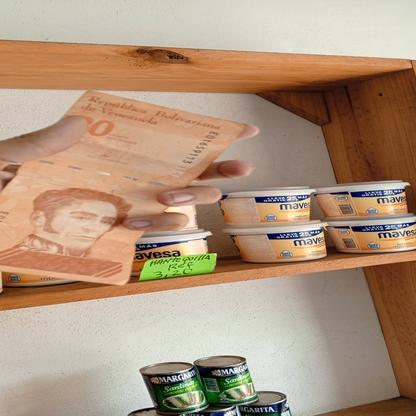twenty-front-vef: (0, 90, 248, 286)
